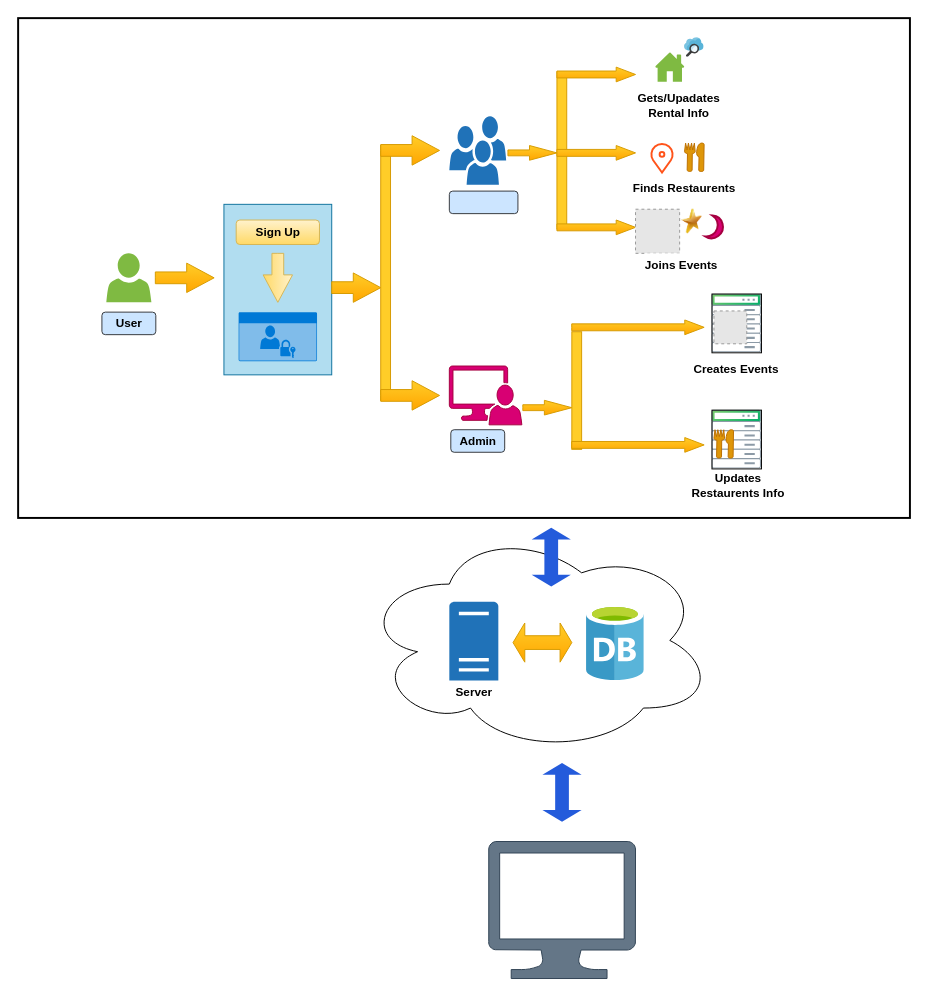
Image size: 927x996. Some labels were removed from this diagram. Grey dashed boxes stand in for pictures. The shapes that lost their labels are listed below. From the top down, each one's centre as x and y in pixels, then its label:
At (x=483, y=202): "Members".
At (x=277, y=336): "Login".
At (x=562, y=909): "USER INTERFACE".
